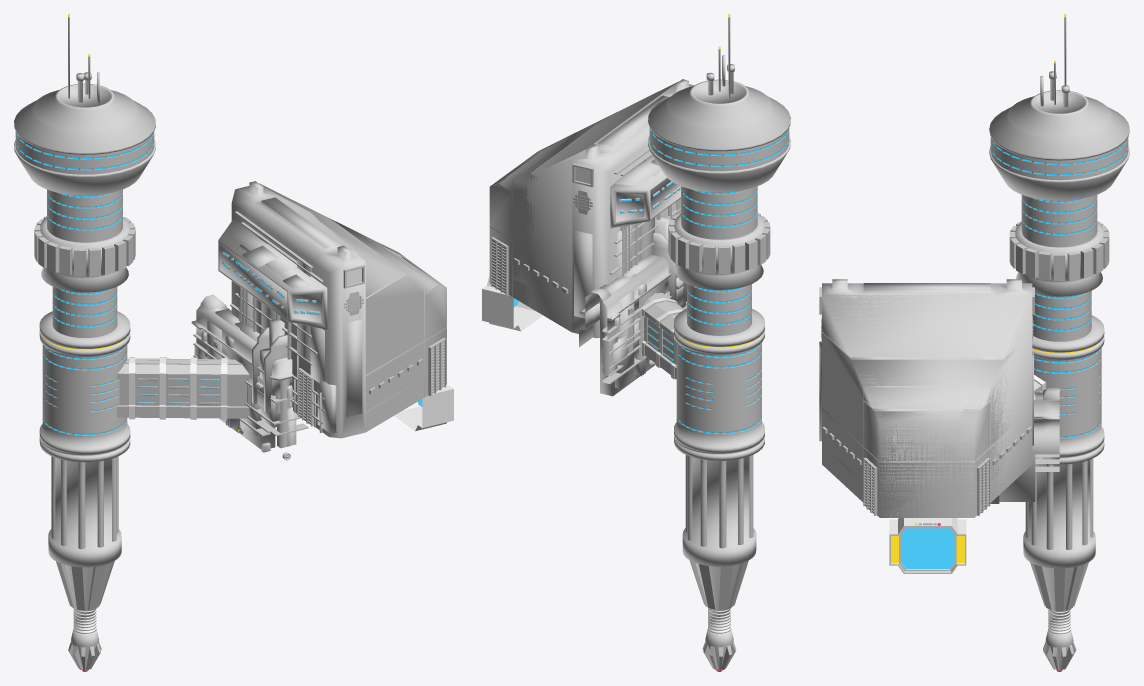
The model's file is 星战X7空间站.glb.
3 renders of one model, left to right at view 1: azimuth 30°, elevation 25°; view 2: azimuth 150°, elevation 25°; view 3: azimuth 270°, elevation 25°, orthographic.
Visible parts, largest first — view 1: CentralSection, OuterSection, HullPlates, CentralSectionGreebles, Bridges, MainGreebles2, MainGreebles, OuterSectionConnectors, OuterSectionHolders, Docks, Antennas; view 2: CentralSection, OuterSection, CentralSectionGreebles, HullPlates, MainGreebles, MainGreebles2, OuterSectionConnectors, Bridges, Docks, OuterSectionHolders, Antennas; view 3: HullPlates, CentralSection, OuterSection, CentralSectionGreebles, Docks, OuterSectionConnectors, MainGreebles, Antennas.
Boxes of the visible parts, bbox=[...] form: CentralSection: bbox=[14, 83, 155, 671]; OuterSection: bbox=[218, 181, 446, 438]; HullPlates: bbox=[260, 184, 446, 432]; CentralSectionGreebles: bbox=[34, 216, 135, 670]; Bridges: bbox=[117, 357, 249, 419]; MainGreebles2: bbox=[227, 211, 336, 433]; MainGreebles: bbox=[193, 308, 308, 460]; OuterSectionConnectors: bbox=[191, 294, 293, 413]; OuterSectionHolders: bbox=[252, 319, 287, 412]; Docks: bbox=[394, 378, 453, 431]; Antennas: bbox=[68, 14, 99, 103]; CentralSection: bbox=[648, 79, 790, 671]; OuterSection: bbox=[489, 79, 694, 338]; CentralSectionGreebles: bbox=[668, 213, 770, 670]; HullPlates: bbox=[489, 82, 677, 307]; MainGreebles: bbox=[600, 254, 686, 396]; MainGreebles2: bbox=[609, 147, 680, 277]; OuterSectionConnectors: bbox=[579, 255, 670, 347]; Bridges: bbox=[641, 293, 684, 379]; Docks: bbox=[482, 275, 542, 331]; OuterSectionHolders: bbox=[653, 215, 686, 304]; Antennas: bbox=[706, 14, 734, 98]; HullPlates: bbox=[822, 295, 1031, 517]; CentralSection: bbox=[989, 90, 1129, 671]; OuterSection: bbox=[819, 279, 1034, 517]; CentralSectionGreebles: bbox=[1009, 221, 1109, 670]; Docks: bbox=[889, 518, 966, 573]; OuterSectionConnectors: bbox=[1032, 388, 1059, 454]; MainGreebles: bbox=[990, 392, 1059, 503]; Antennas: bbox=[1040, 14, 1069, 107].
Size of the model in its own units: 21.9 by 39.95 by 17.3.
